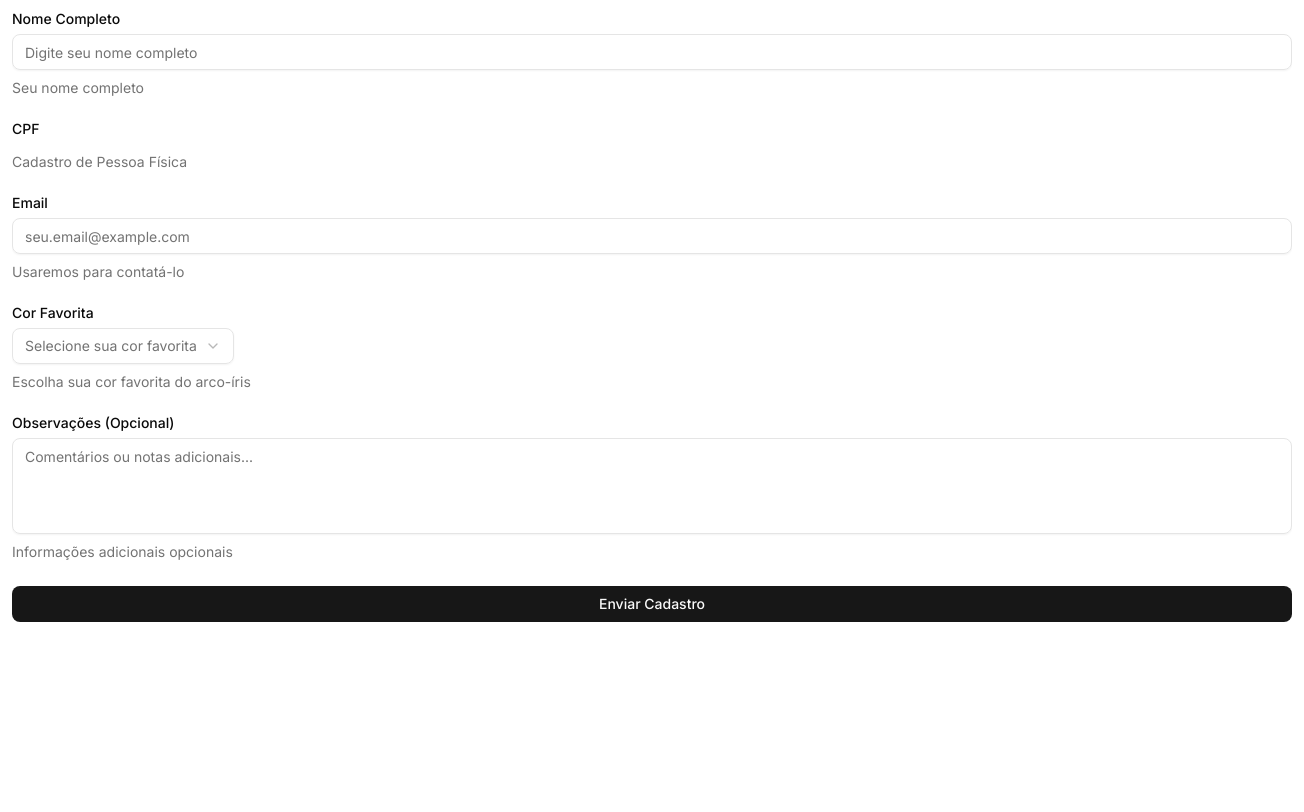
Test case: CustomerForm › validation › shows validation error for empty full name
Click the button "Enviar Cadastro".
click(652, 604)  # box x1=12 y1=586 x2=1292 y2=622
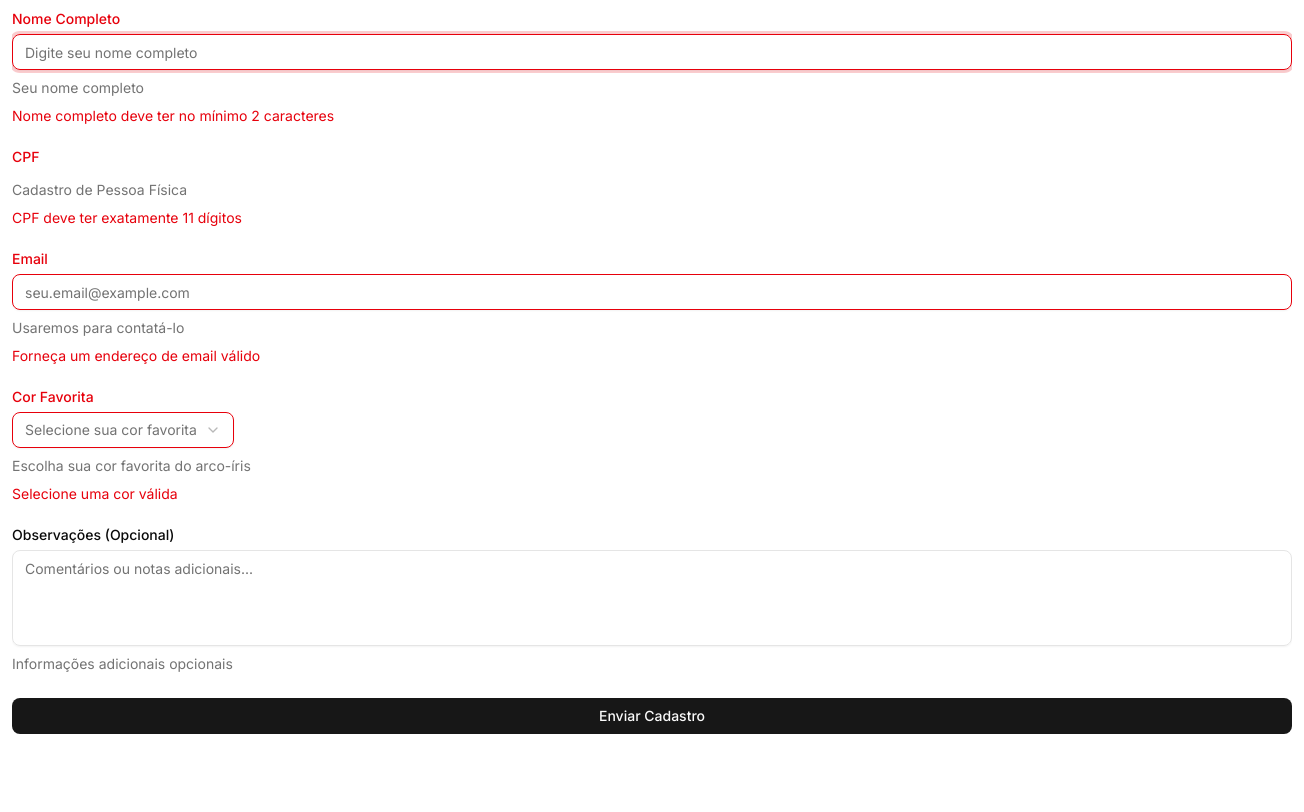
Check: the text "Nome completo deve ter no mínimo 2 caracteres" is shown, box x1=12 y1=107 x2=334 y2=124
